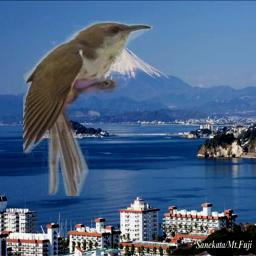Cuckoo: (23, 20, 153, 196)
